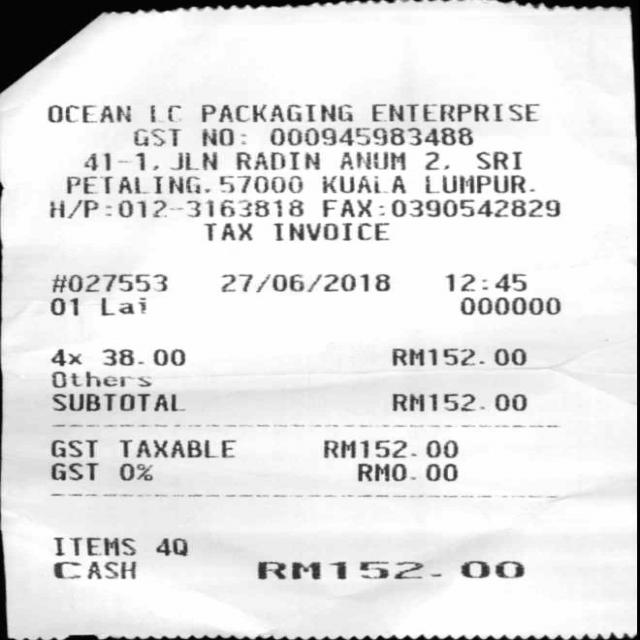text: (255, 560, 523, 578), (50, 199, 302, 218), (268, 127, 471, 145), (390, 198, 558, 217), (219, 274, 388, 292), (50, 391, 188, 413), (370, 103, 538, 121), (199, 104, 351, 122), (66, 175, 207, 193), (390, 347, 524, 365), (390, 393, 524, 411), (322, 440, 456, 458), (117, 439, 234, 457), (272, 222, 387, 240), (51, 274, 165, 292), (424, 175, 532, 193), (459, 296, 558, 315), (357, 462, 456, 481), (52, 559, 139, 579), (50, 370, 150, 387), (52, 536, 134, 556), (234, 152, 318, 170), (136, 151, 215, 170), (46, 104, 129, 122), (322, 175, 403, 193), (445, 273, 525, 291), (219, 175, 301, 192), (101, 348, 183, 365), (338, 152, 404, 170), (321, 198, 382, 217), (49, 461, 97, 480), (475, 150, 520, 170), (49, 439, 96, 457), (204, 222, 250, 240), (100, 296, 143, 315), (133, 128, 178, 146), (201, 127, 243, 146), (153, 536, 186, 556), (148, 104, 180, 122), (118, 462, 150, 480), (50, 348, 80, 366), (49, 297, 76, 315), (423, 150, 447, 170), (85, 152, 108, 170)
